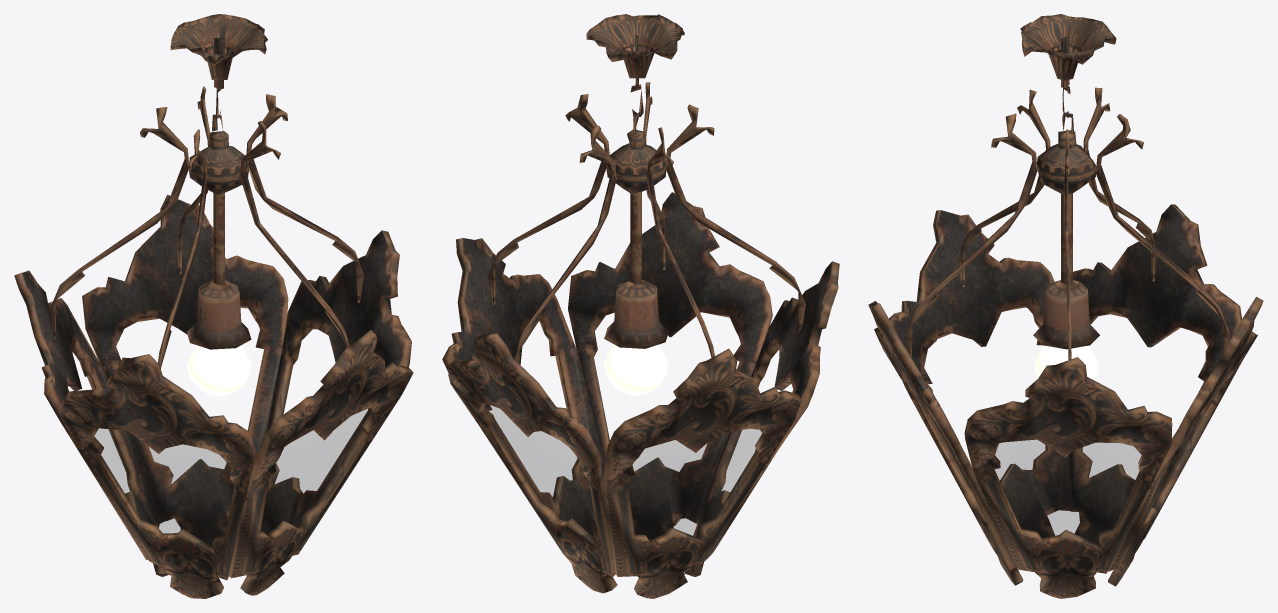
The model's file is lantern_chandelier_01.glb.
3 views of the same model, side by side, from view 1: azimuth 30°, elevation 25°; view 2: azimuth 150°, elevation 25°; view 3: azimuth 270°, elevation 25° (orthographic).
Visible parts, largest first — view 1: lantern_chandelier_01; view 2: lantern_chandelier_01; view 3: lantern_chandelier_01.
Boxes of the visible parts, x1=… form: lantern_chandelier_01: x1=14, y1=14, x2=413, y2=598; lantern_chandelier_01: x1=442, y1=14, x2=839, y2=598; lantern_chandelier_01: x1=868, y1=14, x2=1263, y2=598.
Bounding box in the file's own units: 0.5788 × 0.8776 × 0.5746.
Materials: 3 (2 with a texture image).
